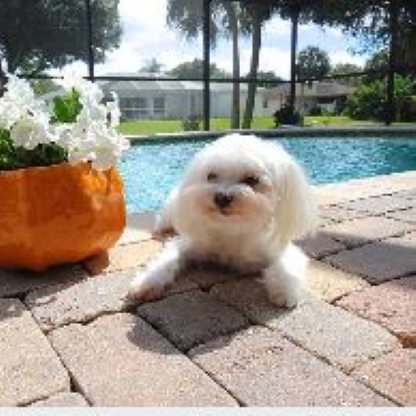maltese: (124, 132, 316, 315)
